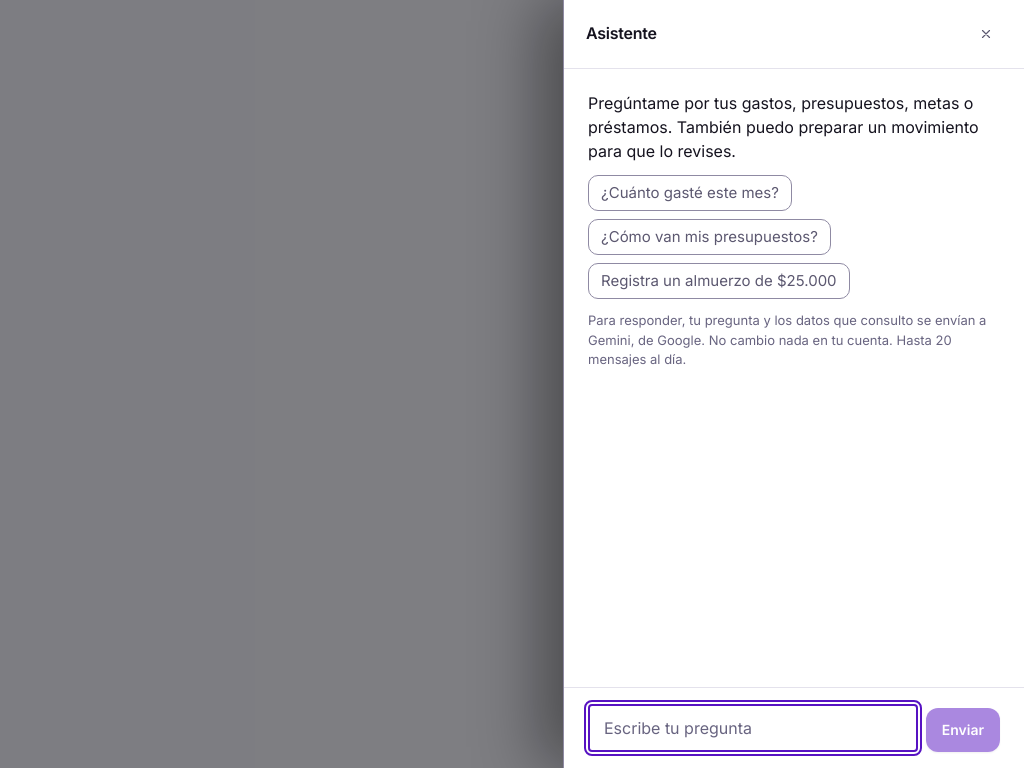
Asistente › keeps the question when the day's limit is reached
In the text box labelled "Escribe tu pregunta": (753,728) [588, 704, 918, 752], type "¿Y mis metas?"
Then press Enter
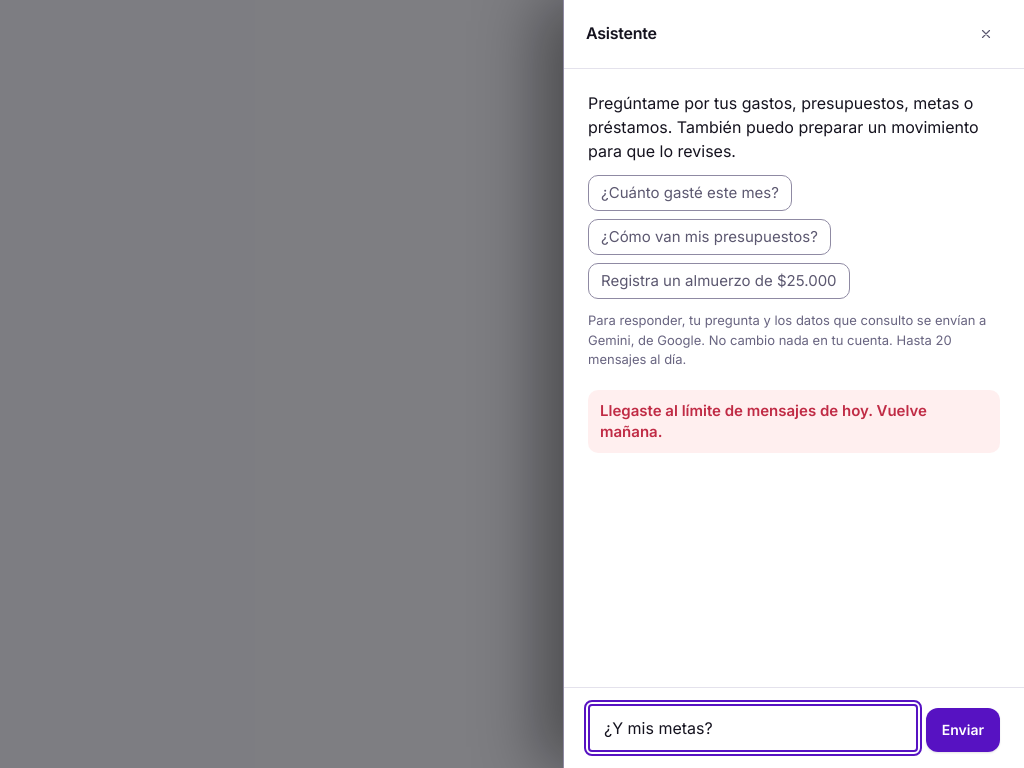
Expected: the text "Llegaste al límite de mensajes de hoy. Vuelve mañana." is shown, [588, 390, 1000, 453]
